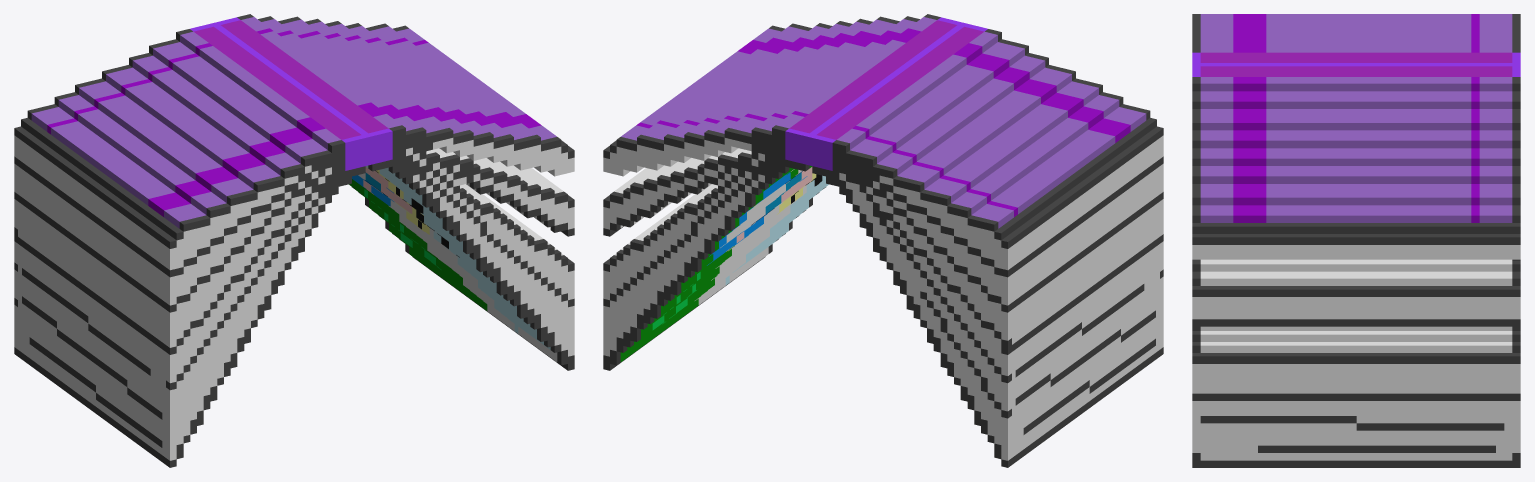
File: Book.obj
3 views of the same model, side by side, from view 1: azimuth 30°, elevation 25°; view 2: azimuth 150°, elevation 25°; view 3: azimuth 270°, elevation 25° (orthographic). The views are drawn at different scales.
Size of the model in its own units: 6 by 4 by 4.
1 material, 1 textured.
